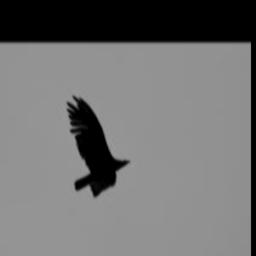Crow: (67, 94, 132, 197)
